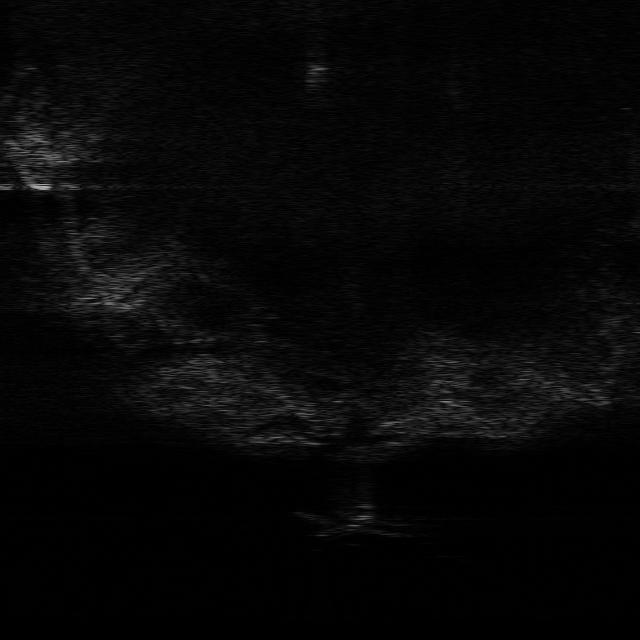plane: (293, 501, 415, 540)
